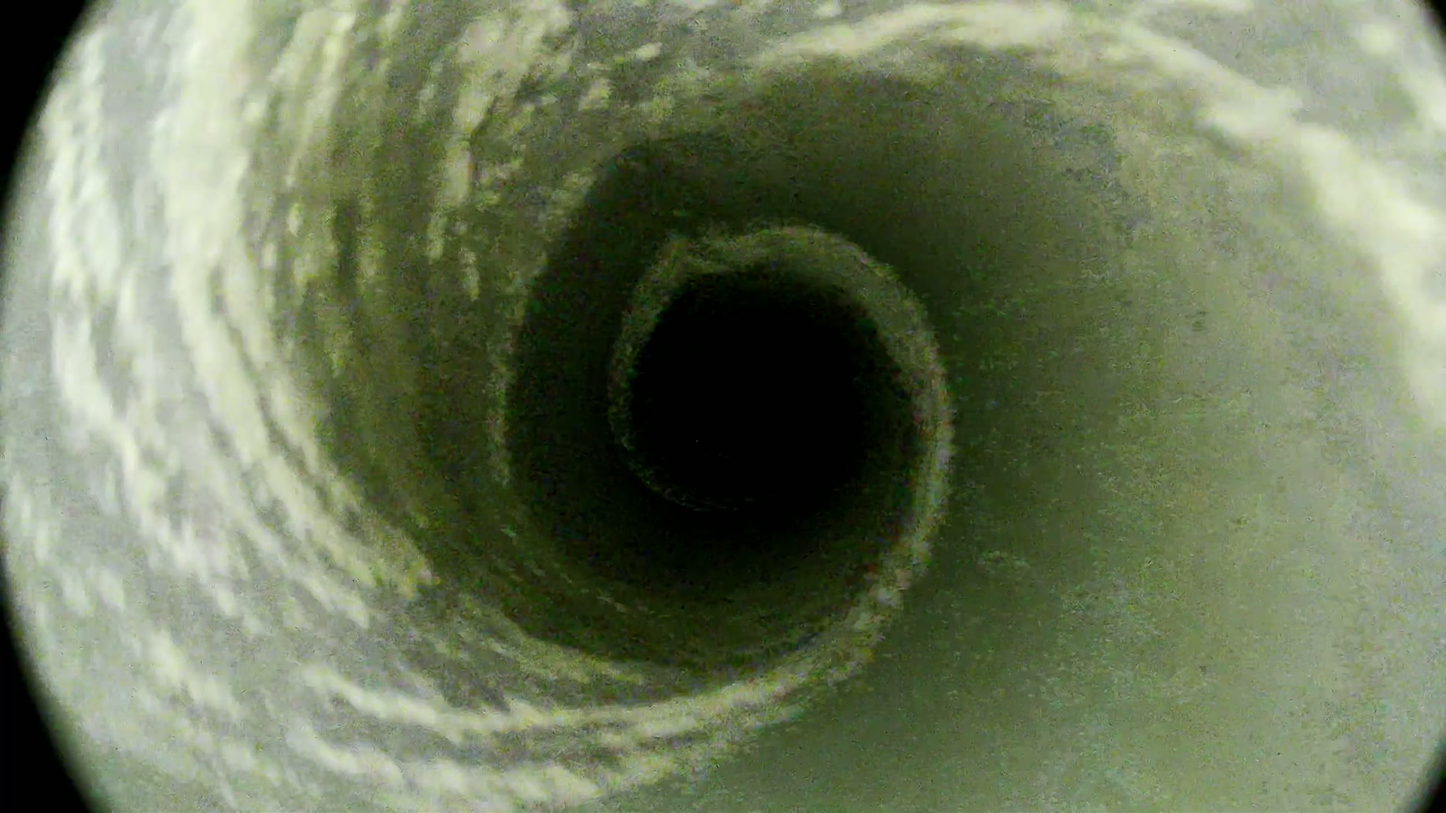hole: (655, 307, 835, 489)
